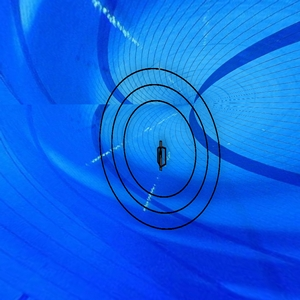circle: (97, 66, 230, 234)
submarine: (153, 139, 174, 174)
